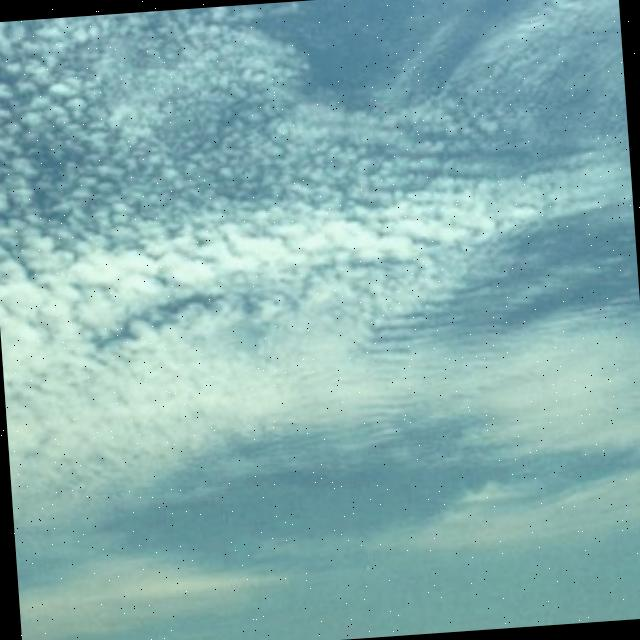Cc: (1, 35, 640, 604)
